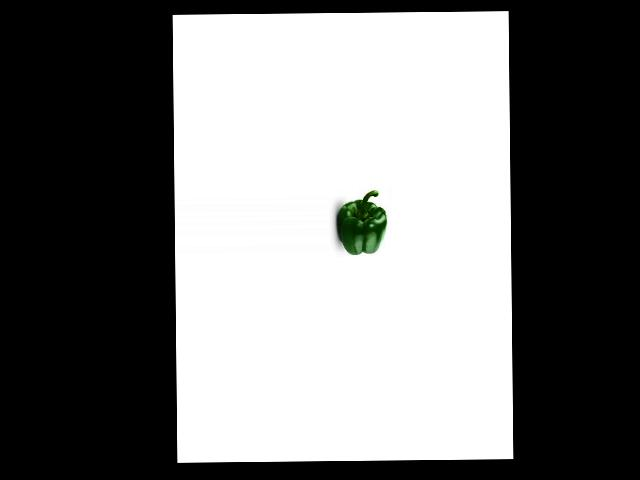bell_pepper: (337, 188, 387, 257)
